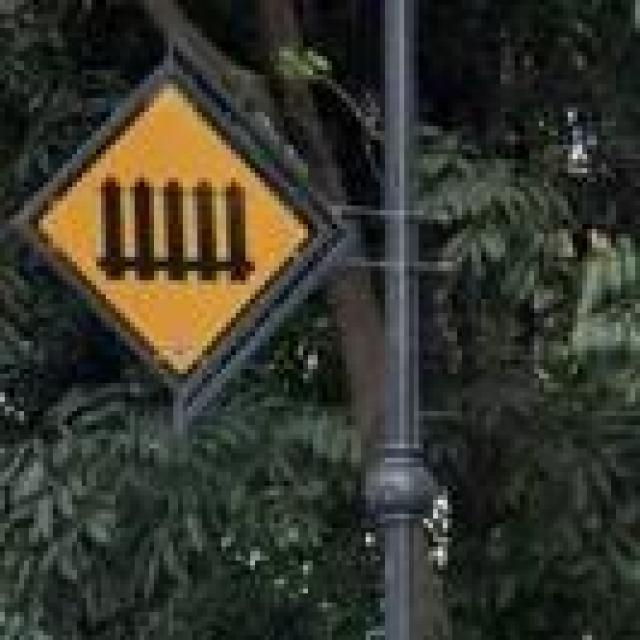traffic sign: (48, 84, 312, 383)
